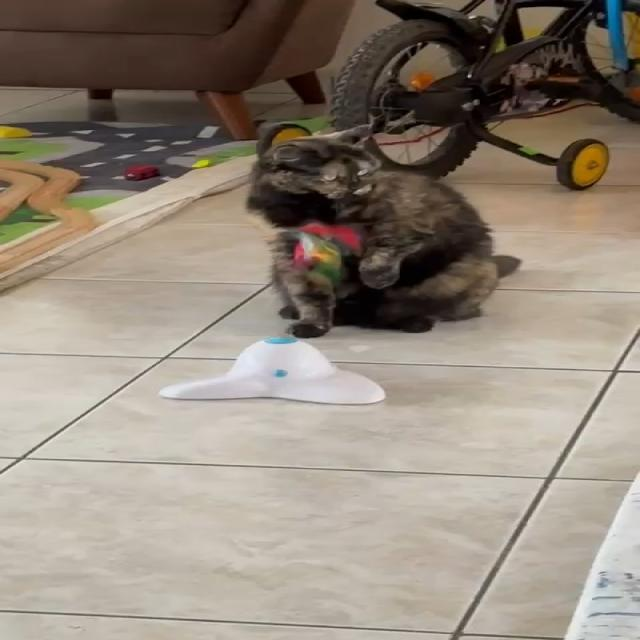authorized: (244, 121, 521, 338)
